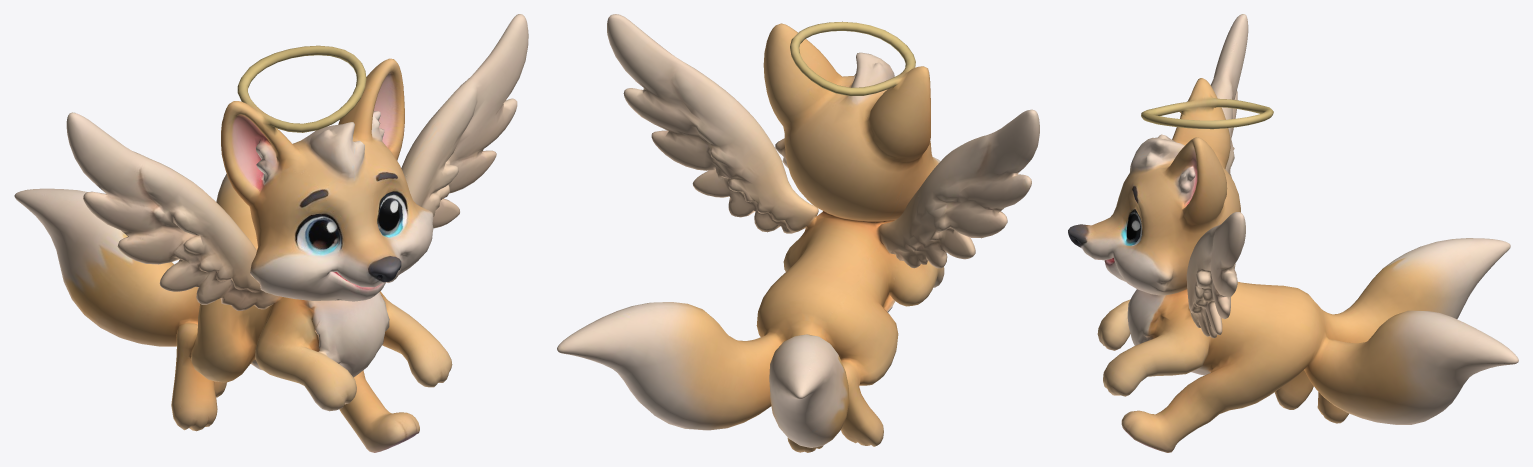
File: engelsfuchs.glb
3 views of the same model, side by side, from view 1: azimuth 30°, elevation 25°; view 2: azimuth 150°, elevation 25°; view 3: azimuth 270°, elevation 25° (orthographic). The views are drawn at different scales.
Parts seen in each view (by area): view 1: model; view 2: model; view 3: model.
Part boxes in pixels (x1=…): model: x1=14, y1=14, x2=528, y2=452; model: x1=557, y1=14, x2=1039, y2=452; model: x1=1068, y1=14, x2=1518, y2=452.
Size of the model in its own units: 1.89 by 1.5 by 1.83.
1 material, 1 textured.
